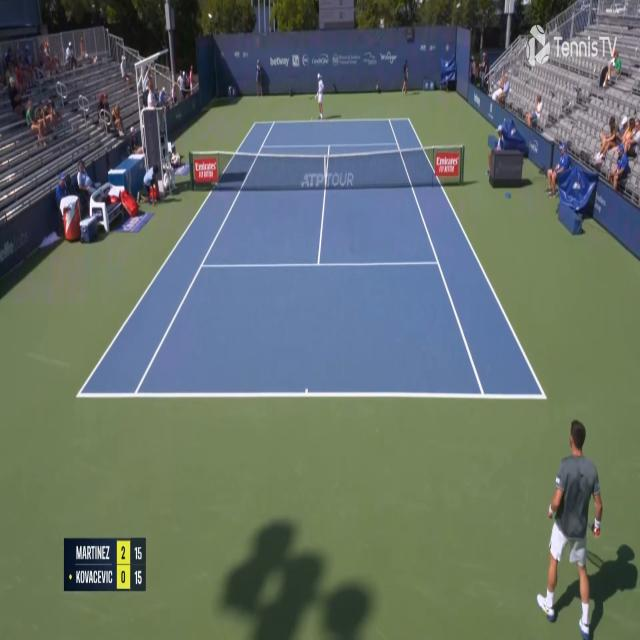tennis-player: (536, 414, 607, 634), (314, 73, 326, 121)
